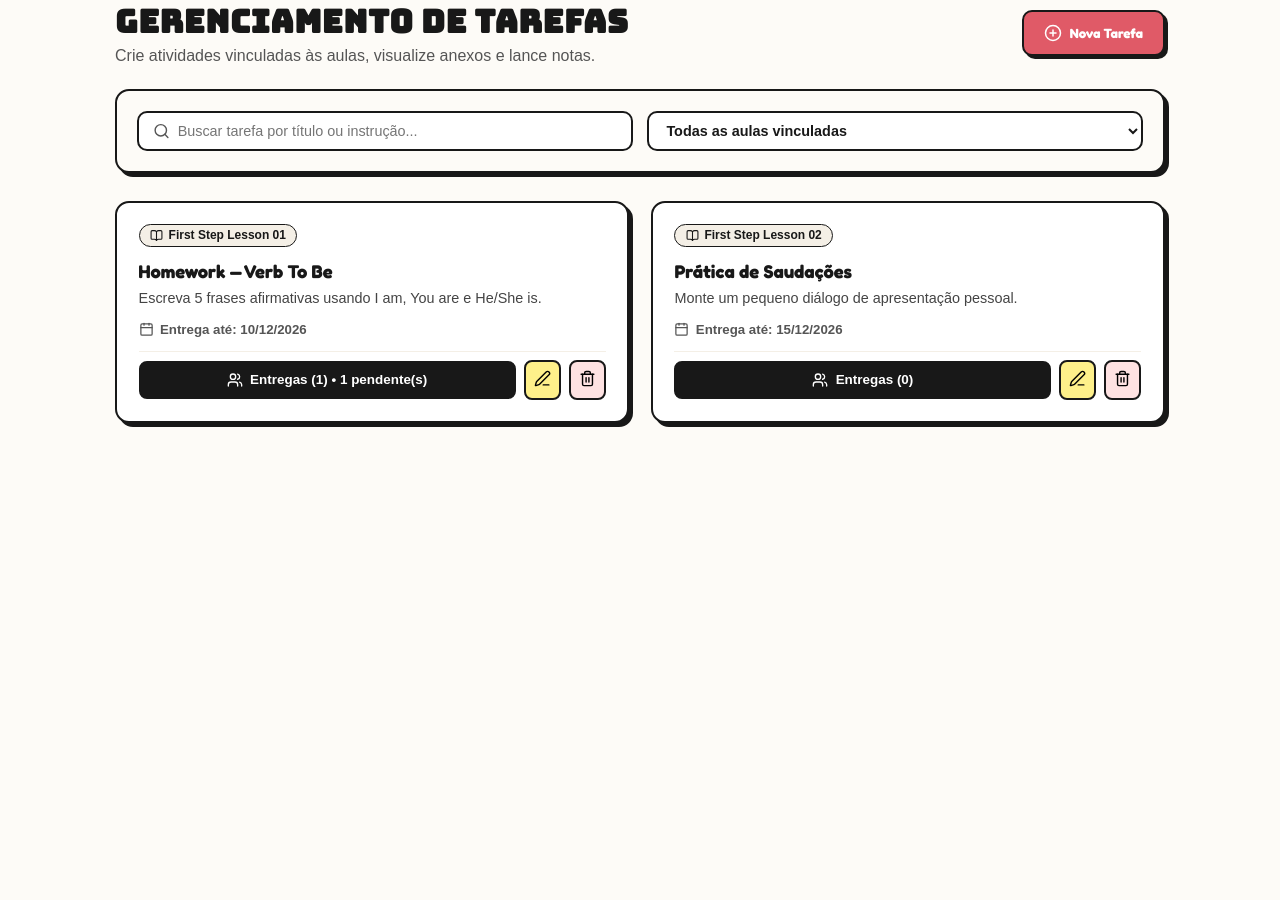
Test: Página Assignments (CRUD Completo e Sistema de Avaliação) › Sistema de Entrega e Avaliação (Fluxo Aluno <-> Professor) › PROFESSOR (Correção): deve validar faixa da nota (0-10) e salvar nota com comentário
The image size is (1280, 900).
Expected: the heading "Homework — Verb To Be" is shown, [139, 260, 333, 282]
// Abre o modal de entregas da primeira tarefa
Click the button "Entregas (1) • 1 pendente(s)": (327, 380) [139, 361, 516, 399]
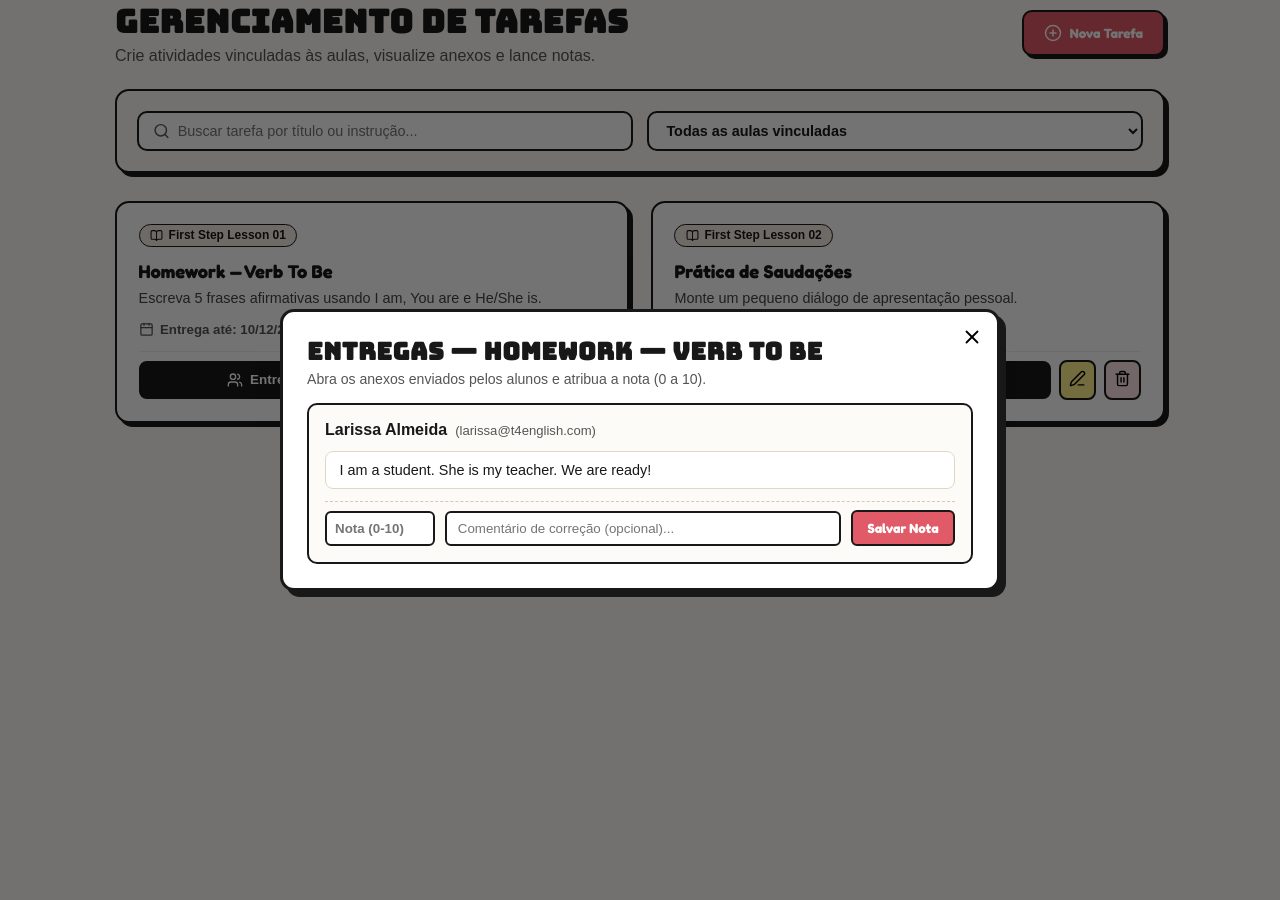
Now the text "Larissa Almeida" is shown, box [325, 421, 447, 438]
Now the text "I am a student. She is my teacher. We are ready!" is shown, box [325, 451, 955, 489]
In the number field named "Nota de Larissa Almeida": (380, 528) [325, 511, 435, 546], type "12"
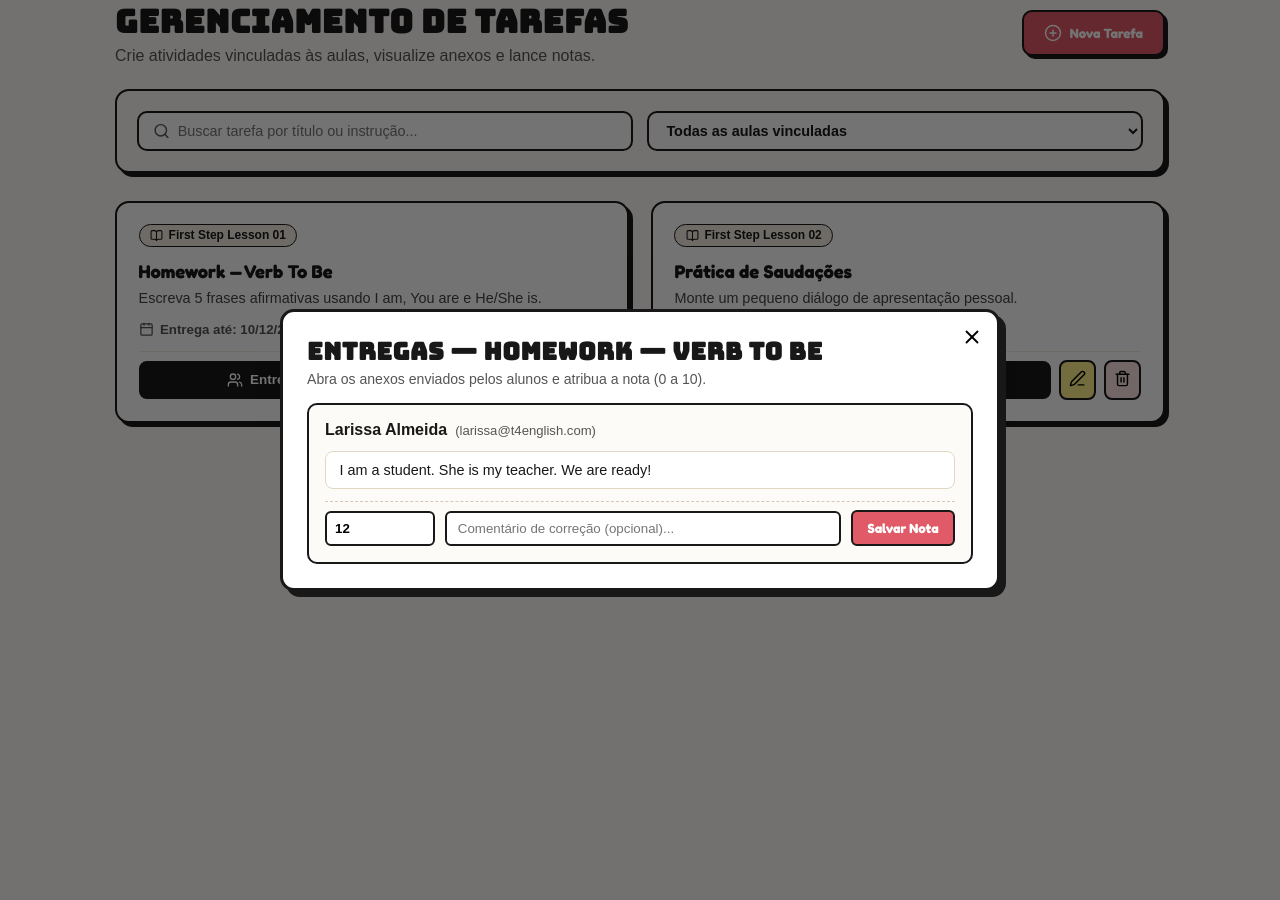
Click the button "Salvar Nota": (903, 528) [851, 510, 955, 546]
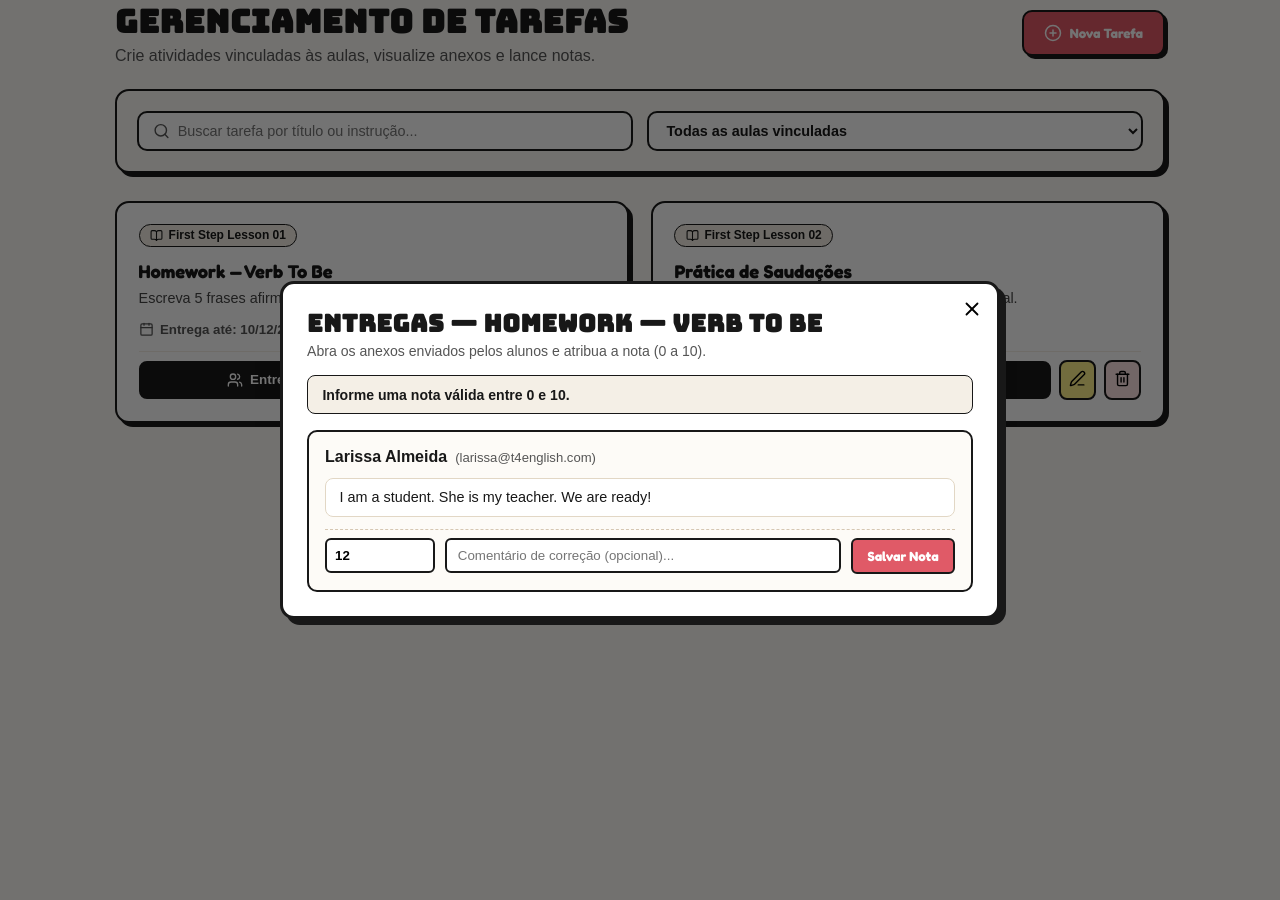
Now the text "Informe uma nota válida entre 0 e 10." is shown, box [307, 375, 973, 414]
// Lança nota válida (9.5) e comentário de feedback
Replace the text in the number field named "Nota de Larissa Almeida" with "9.5": (380, 556) [325, 538, 435, 573]
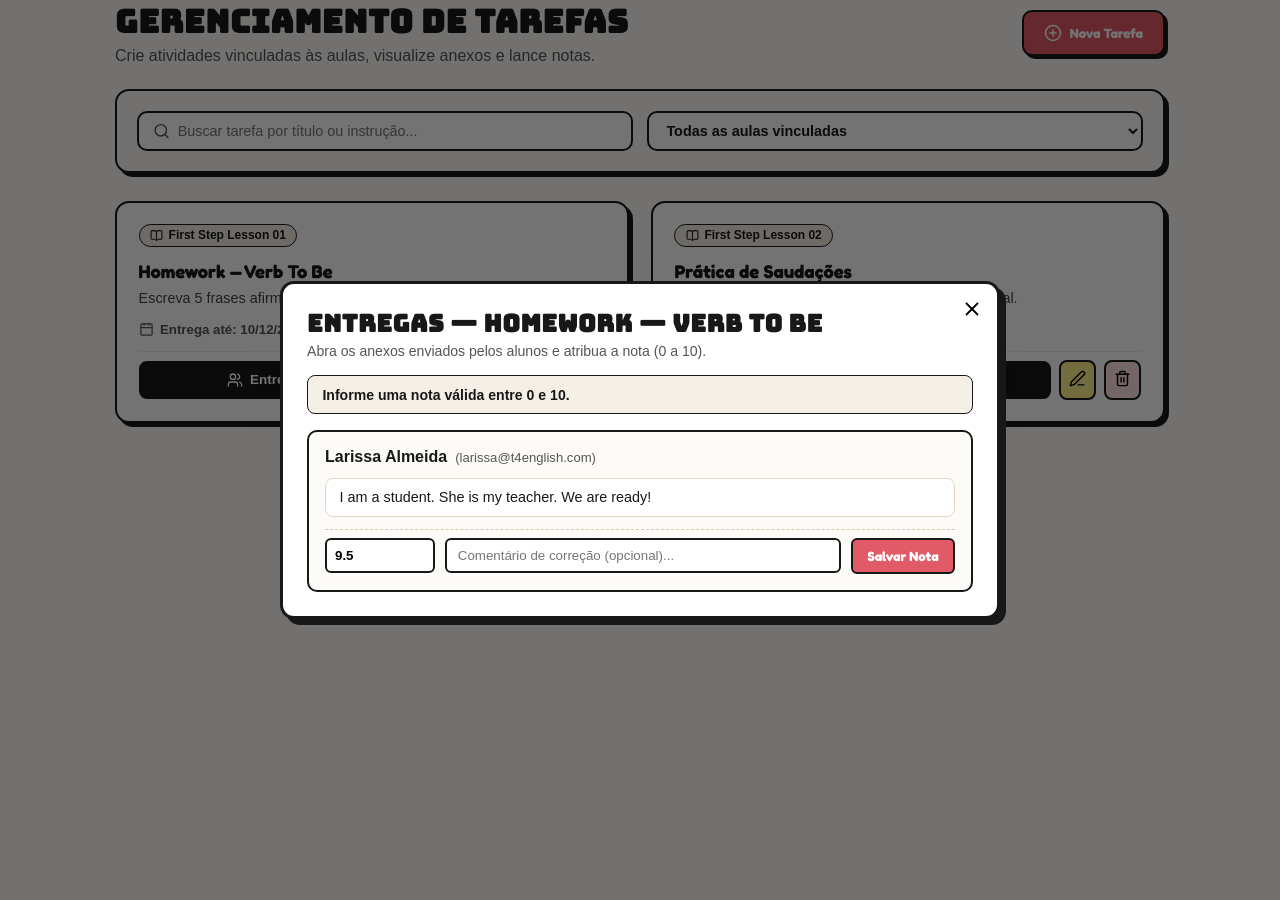
In the field named "Comentário para Larissa Almeida": (643, 556) [445, 538, 842, 573], type "Excelente construção das frases no afirmativo!"
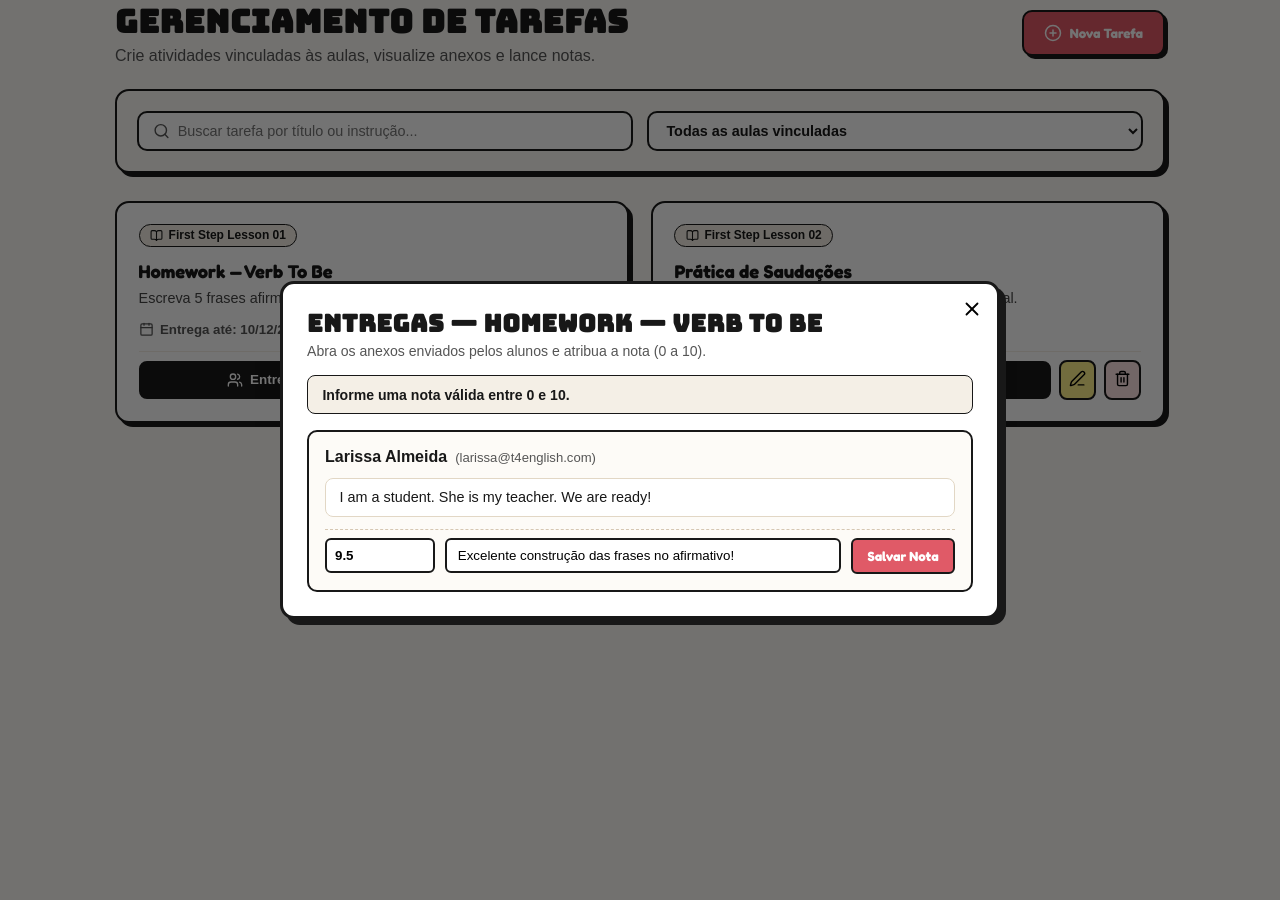
Click the button "Salvar Nota": (903, 556) [851, 538, 955, 574]
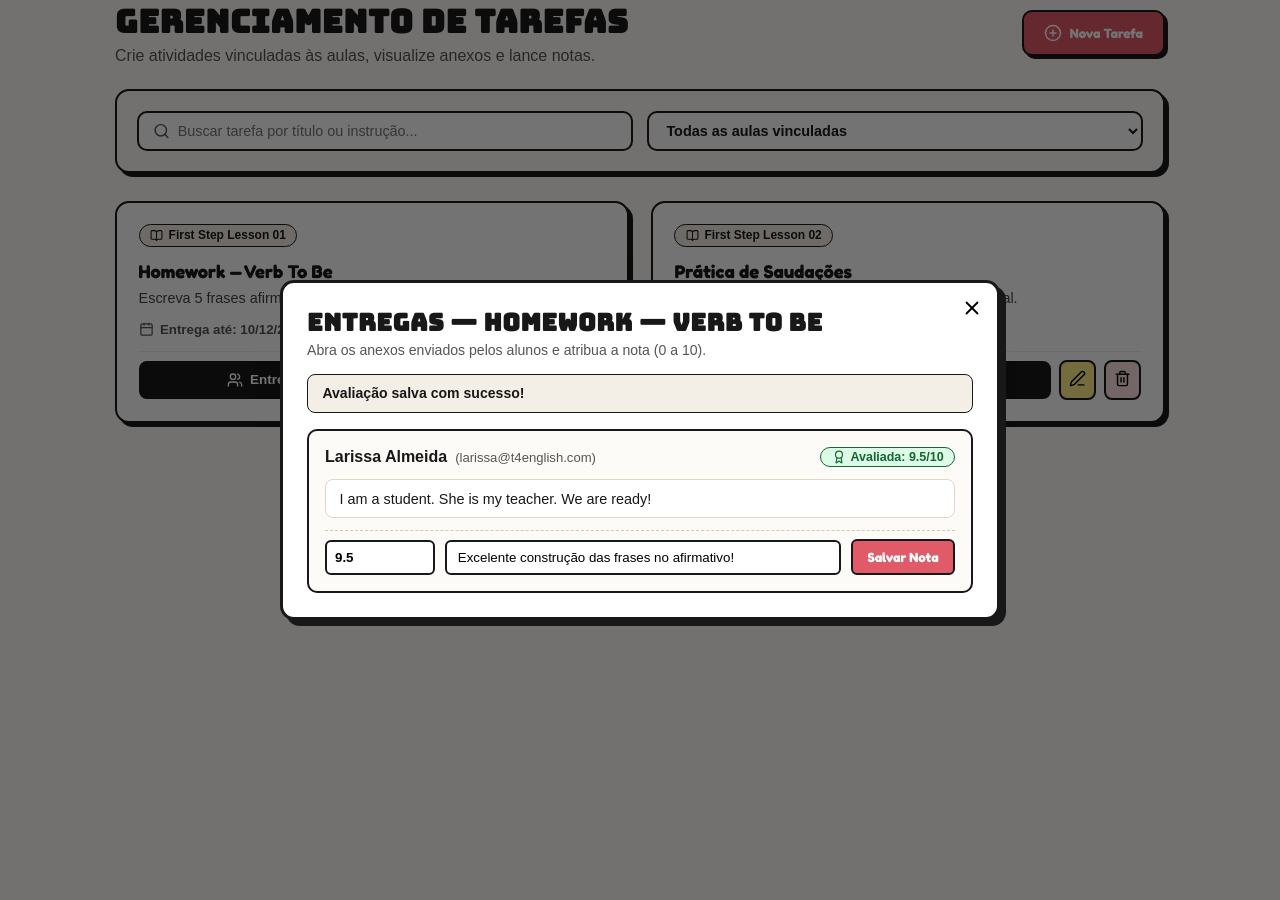
Now the text "Avaliação salva com sucesso!" is shown, box [307, 374, 973, 413]
Now the text "Avaliada: 9.5/10" is shown, box [820, 447, 955, 467]
